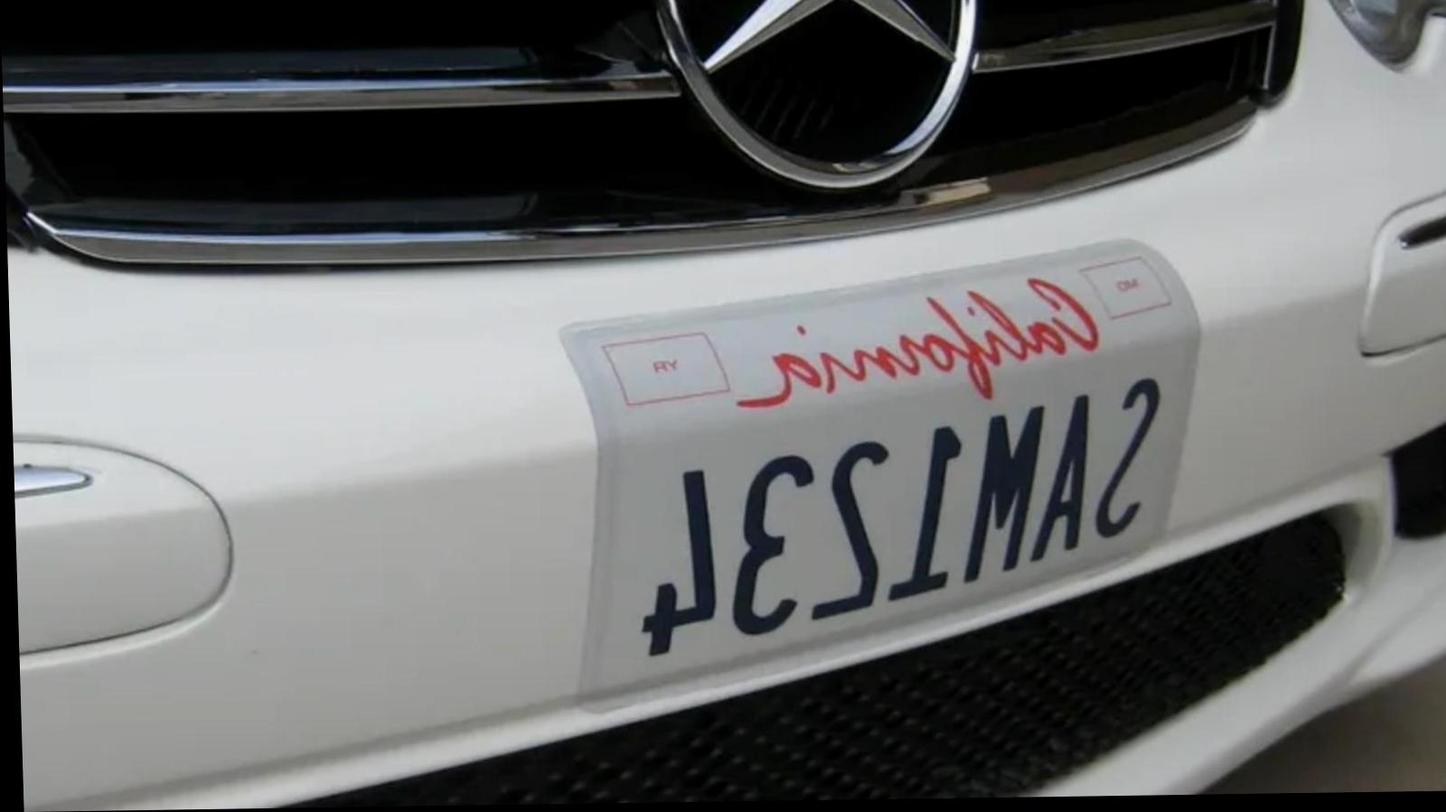License_Plate: (559, 232, 1195, 717)
